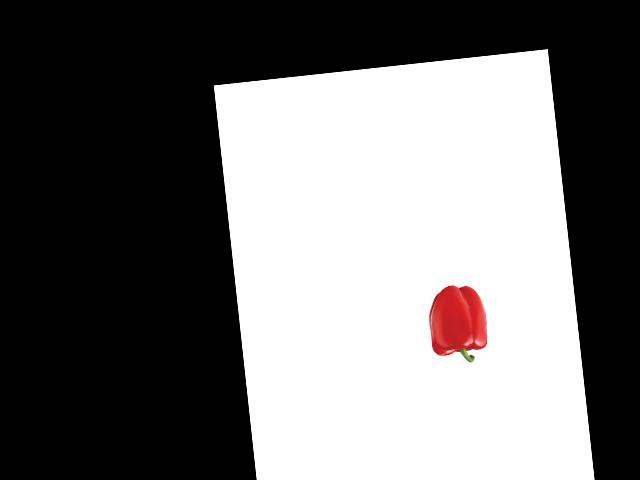bell_pepper: (421, 279, 493, 366)
